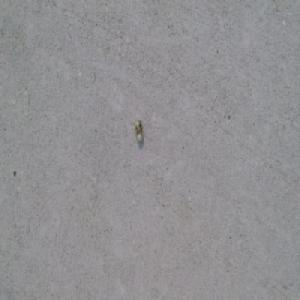BoltNutSet: (133, 120, 143, 143)
